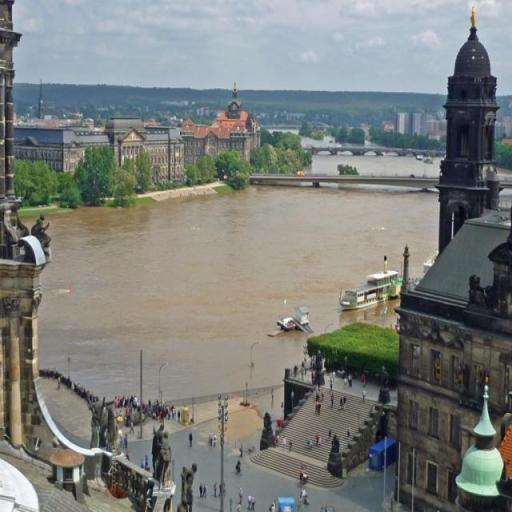flood: (39, 186, 438, 400), (314, 156, 440, 176), (302, 135, 381, 147)
house: (398, 218, 512, 508), (20, 127, 110, 171), (456, 446, 506, 509), (1, 438, 43, 512), (214, 83, 258, 153), (117, 126, 185, 168), (394, 114, 441, 138)
